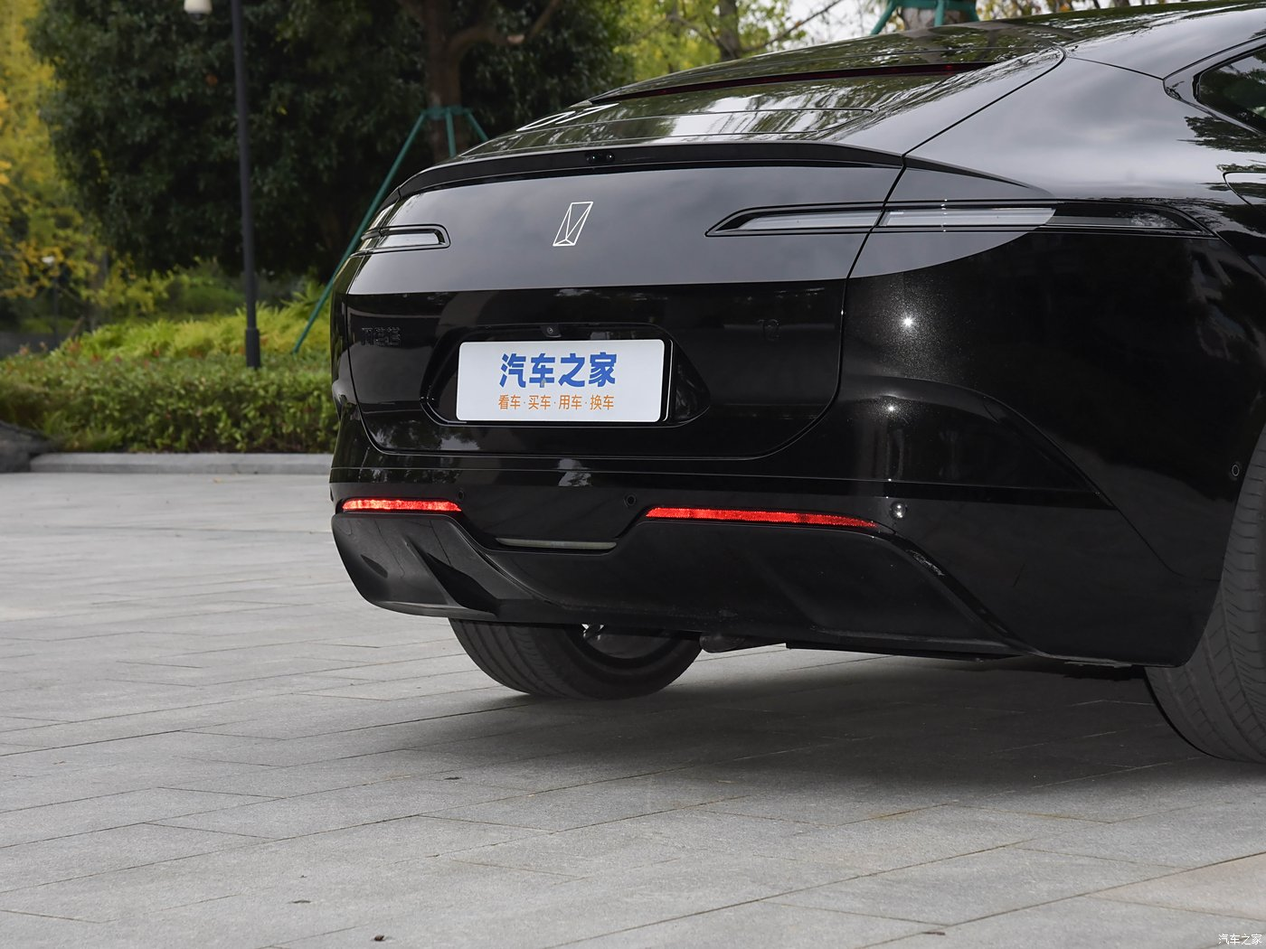AVATR: (553, 202, 594, 247)
